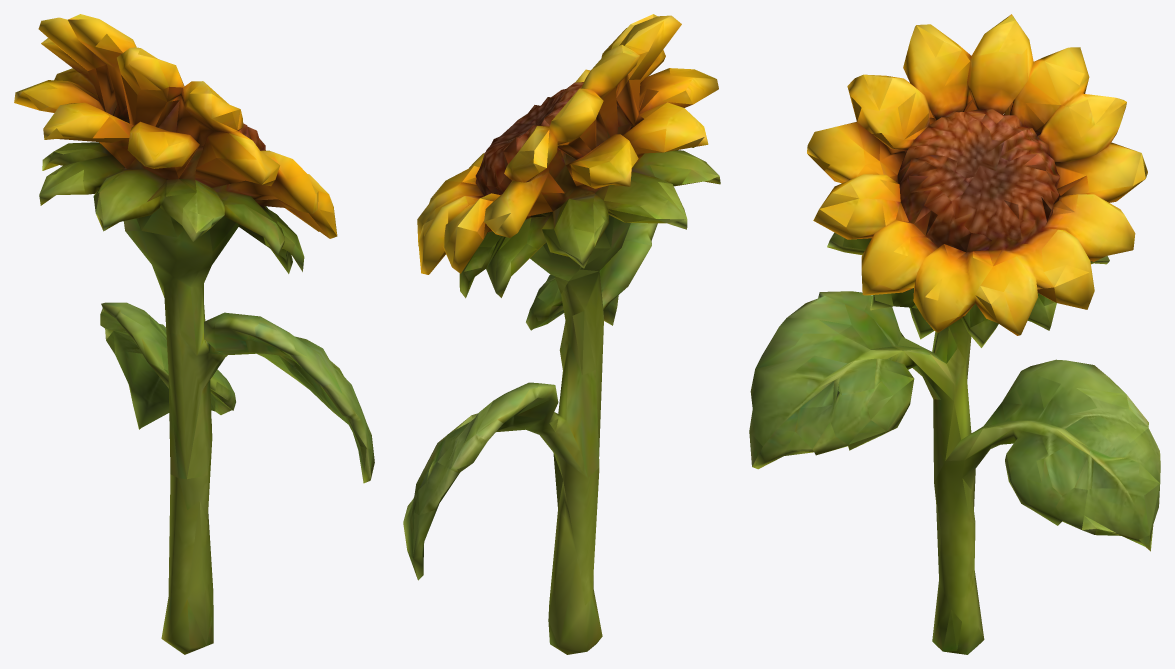
3 views of the same model, side by side, from view 1: azimuth 30°, elevation 25°; view 2: azimuth 150°, elevation 25°; view 3: azimuth 270°, elevation 25° (orthographic). The views are drawn at different scales.
Visible parts, largest first — view 1: crop-sunflower-mature; view 2: crop-sunflower-mature; view 3: crop-sunflower-mature.
Part boxes in pixels (x1=…): crop-sunflower-mature: x1=14, y1=14, x2=374, y2=654; crop-sunflower-mature: x1=403, y1=14, x2=720, y2=654; crop-sunflower-mature: x1=749, y1=14, x2=1160, y2=654.
Bounding box in the file's own units: 0.3738 × 0.8483 × 0.5345.
Materials: 1 (1 with a texture image).
